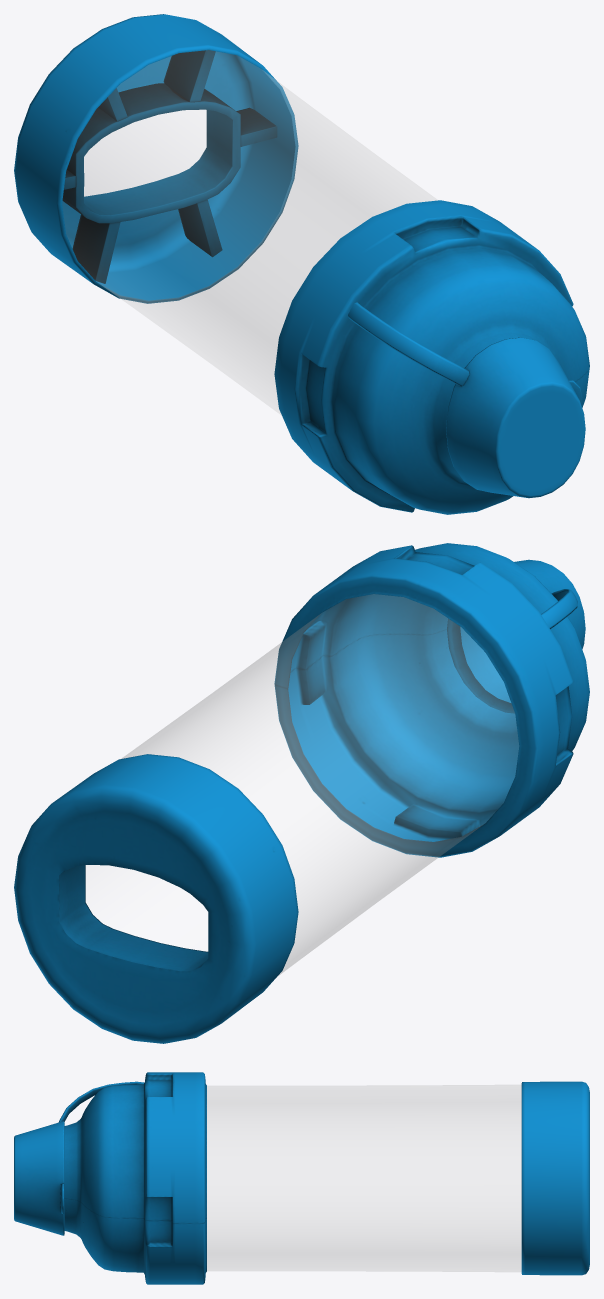
File: Spacer at Center (90 Degrees on X Axis).obj
3 views of the same model, one above another, from view 1: azimuth 30°, elevation 25°; view 2: azimuth 150°, elevation 25°; view 3: azimuth 270°, elevation 25° (orthographic). The views are drawn at different scales.
Parts seen in each view (by area): view 1: cylinder, cap2, cap3, cap4; view 2: cylinder, cap2, cap3, cap4; view 3: cylinder, cap2, cap3, cap4.
Boxes of the visible parts, bbox=[...] form: cylinder: bbox=[62, 50, 437, 415]; cap2: bbox=[274, 200, 589, 514]; cap3: bbox=[14, 14, 298, 303]; cap4: bbox=[348, 302, 585, 498]; cylinder: bbox=[86, 594, 518, 976]; cap2: bbox=[274, 543, 589, 857]; cap3: bbox=[14, 754, 298, 1043]; cap4: bbox=[447, 559, 585, 713]; cylinder: bbox=[207, 1085, 521, 1271]; cap2: bbox=[64, 1072, 206, 1284]; cap3: bbox=[521, 1081, 589, 1275]; cap4: bbox=[14, 1081, 144, 1235].
Size of the model in its own units: 0.0787 by 0.0787 by 0.2126.
